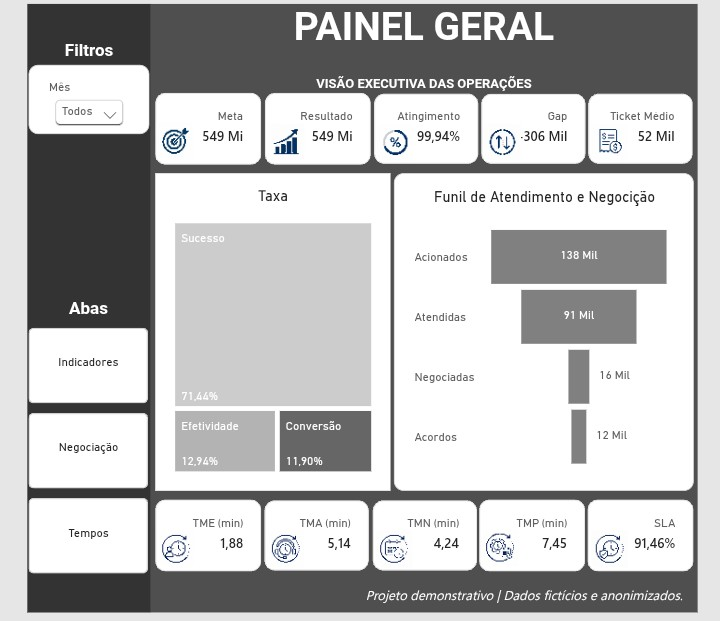

What the dashboard file says about the page in this screenshot:
{"tool":"powerbi","page":{"name":"Inicio","canvas":[550,500],"ordinal":0},"visuals":[{"type":"textbox","box":[101,0,449,54],"z":0},{"type":"shape","box":[0,0,101,500],"z":1000},{"type":"cardVisual","fields":{"Data":["Metricas.Meta"]},"box":[105,73,87,59],"z":1000,"group":"g1"},{"type":"group","id":"g1","title":"Grupo 1","box":[105,73,87,59],"z":2000},{"type":"group","id":"g2","title":"Grupo 2","box":[195,73,87,59],"z":3000},{"type":"cardVisual","fields":{"Data":["Metricas.Resultado"]},"box":[195,73,87,59],"z":3000,"group":"g2"},{"type":"cardVisual","fields":{"Data":["Metricas.TME"]},"box":[105,407,87,59],"z":3000,"group":"g6"},{"type":"group","id":"g3","title":"Grupo 3","box":[284,73,87,59],"z":4000},{"type":"cardVisual","fields":{"Data":["Metricas.TMP"]},"box":[371.2,407,87,59],"z":4000,"group":"g9"},{"type":"group","id":"g4","title":"Grupo 3","box":[372,73,87,59],"z":5000},{"type":"cardVisual","fields":{"Data":["Metricas.TKM"]},"box":[460,73,87,59],"z":5000,"group":"g5"},{"type":"cardVisual","fields":{"Data":["Metricas.SLA"]},"box":[460,407,87,59],"z":5000,"group":"g8"},{"type":"group","id":"g5","title":"Grupo 4","box":[460,73,87,59],"z":6000},{"type":"group","id":"g6","title":"Grupo 2","box":[105,407,87,59],"z":7000},{"type":"group","id":"g7","title":"Grupo 3","box":[193.8,407,87,59],"z":8000},{"type":"group","id":"g8","title":"Grupo 4","box":[460,407,87,59],"z":9000},{"type":"image","box":[106,95,30,35],"z":10000,"group":"g1"},{"type":"group","id":"g9","title":"Grupo 5","box":[371.2,407,87,59],"z":10000},{"type":"group","id":"g10","title":"Grupo 3","box":[282.5,407,87,59],"z":11000},{"type":"image","box":[373.2,429,30,35],"z":11000,"group":"g9"},{"type":"image","box":[463,96,30,35],"z":12000,"group":"g5"},{"type":"funnel","title":"Funil de Atendimento e Negocição","fields":{"Y":["Metricas.Pessoas Acionados","Metricas.Pessoas Atendidas","Metricas.Pessoas Negociadas","Metricas.Acordos"]},"box":[301,139,246,261],"z":12000},{"type":"image","box":[463,430,30,35],"z":12000,"group":"g8"},{"type":"treemap","title":"Taxa","fields":{"Values":["Metricas.%Taxa de Efetividade","Metricas.%Pessoas - Taxa de Conversão","Metricas.%Taxa de Sucesso"]},"box":[105,139,193,261],"z":13000},{"type":"pageNavigator","box":[1,266,98,202],"z":14000},{"type":"textbox","box":[1,240,98,19],"z":15000},{"type":"slicer","title":"Mês","fields":{"Values":["Calendario.Mes Abreviado"]},"box":[1,50,99,57],"z":16000},{"type":"textbox","box":[0,28,101,23],"z":17000},{"type":"textbox","box":[101,54,449,20],"z":18000},{"type":"image","box":[197,96,30,35],"z":18000,"group":"g2"},{"type":"image","box":[107,430,30,35],"z":18000,"group":"g6"},{"type":"textbox","box":[254,475,284,25],"z":18001},{"type":"cardVisual","fields":{"Data":["Metricas.%Variação"]},"box":[284,73,87,59],"z":19000,"group":"g3"},{"type":"cardVisual","fields":{"Data":["Metricas.Gap"]},"box":[372,73,87,59],"z":19000,"group":"g4"},{"type":"cardVisual","fields":{"Data":["Metricas.TMA"]},"box":[193.8,407,87,59],"z":19000,"group":"g7"},{"type":"cardVisual","fields":{"Data":["Metricas.TMN"]},"box":[282.5,407,87,59],"z":19000,"group":"g10"},{"type":"image","box":[287,96,30,35],"z":20000,"group":"g3"},{"type":"image","box":[375,96,30,35],"z":20000,"group":"g4"},{"type":"image","box":[196.8,430,30,35],"z":20000,"group":"g7"},{"type":"image","box":[285.5,430,30,35],"z":20000,"group":"g10"}]}

Visuals, with their boxes in screenshot pixels (x1, y1, x2, y2):
textbox: locate(148, 0, 698, 66)
shape: locate(24, 0, 148, 612)
cardVisual - Metricas.Meta: locate(153, 89, 259, 162)
"Grupo 1" group: locate(153, 89, 259, 162)
"Grupo 2" group: locate(263, 89, 370, 162)
cardVisual - Metricas.Resultado: locate(263, 89, 370, 162)
cardVisual - Metricas.TME: locate(153, 498, 259, 570)
"Grupo 3" group: locate(372, 89, 479, 162)
cardVisual - Metricas.TMP: locate(479, 498, 585, 570)
"Grupo 3" group: locate(480, 89, 586, 162)
cardVisual - Metricas.TKM: locate(587, 89, 694, 162)
cardVisual - Metricas.SLA: locate(587, 498, 694, 570)
"Grupo 4" group: locate(587, 89, 694, 162)
"Grupo 2" group: locate(153, 498, 259, 570)
"Grupo 3" group: locate(262, 498, 368, 570)
"Grupo 4" group: locate(587, 498, 694, 570)
image: locate(154, 116, 191, 159)
"Grupo 5" group: locate(479, 498, 585, 570)
"Grupo 3" group: locate(370, 498, 477, 570)
image: locate(481, 525, 518, 568)
image: locate(591, 118, 628, 160)
"Funil de Atendimento e Negocição" funnel: locate(393, 170, 694, 490)
image: locate(591, 526, 628, 569)
"Taxa" treemap: locate(153, 170, 389, 490)
pageNavigator: locate(26, 326, 146, 573)
textbox: locate(26, 294, 146, 317)
"Mês" slicer: locate(26, 61, 147, 131)
textbox: locate(24, 34, 148, 62)
textbox: locate(148, 66, 698, 91)
image: locate(266, 118, 302, 160)
image: locate(155, 526, 192, 569)
textbox: locate(335, 581, 683, 612)
cardVisual - Metricas.%Variação: locate(372, 89, 479, 162)
cardVisual - Metricas.Gap: locate(480, 89, 586, 162)
cardVisual - Metricas.TMA: locate(262, 498, 368, 570)
cardVisual - Metricas.TMN: locate(370, 498, 477, 570)
image: locate(376, 118, 412, 160)
image: locate(483, 118, 520, 160)
image: locate(265, 526, 302, 569)
image: locate(374, 526, 411, 569)
